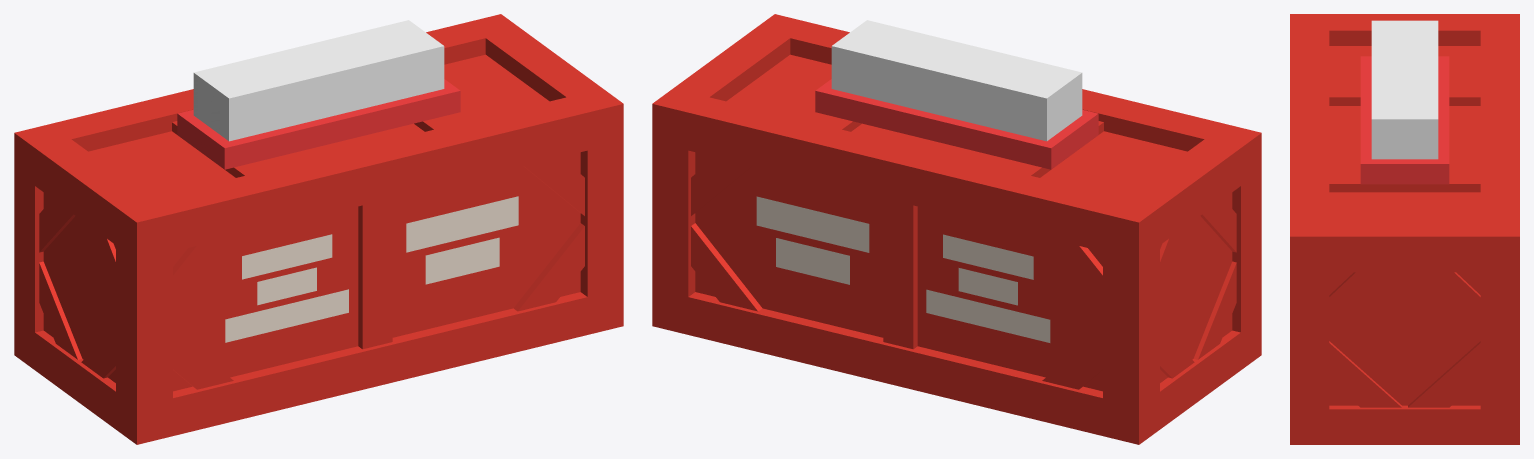
The model's file is item_minus.glb.
3 views of the same model, side by side, from view 1: azimuth 30°, elevation 25°; view 2: azimuth 150°, elevation 25°; view 3: azimuth 270°, elevation 25° (orthographic). The views are drawn at different scales.
Visible parts, largest first — view 1: item_mesh; view 2: item_mesh; view 3: item_mesh.
Boxes of the visible parts, <box> form: item_mesh: <box>14,14,623,444</box>; item_mesh: <box>652,14,1261,444</box>; item_mesh: <box>1290,14,1519,444</box>.
Size of the model in its own units: 0.95 by 0.5246 by 0.4146.
Materials: 1 (1 with a texture image).
